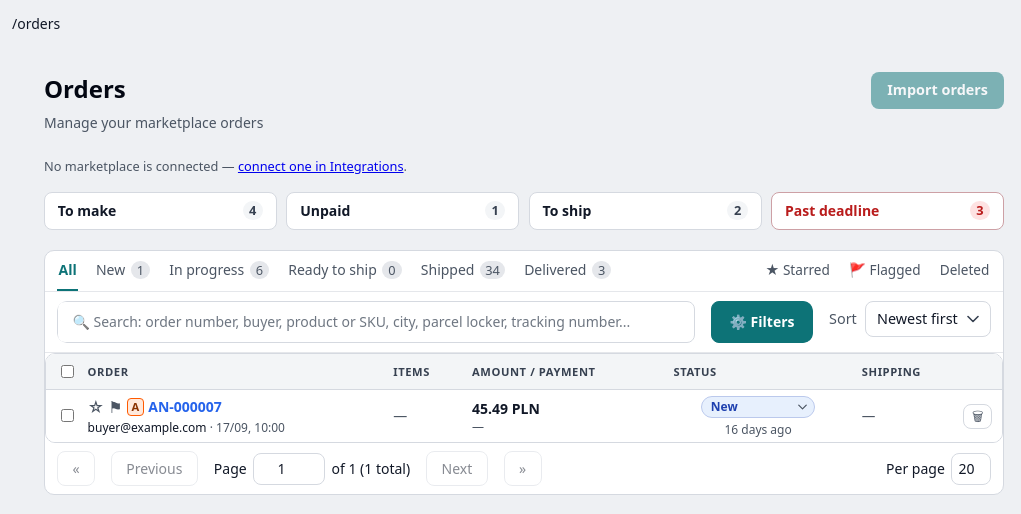
Scenario: the quick button for orders in progress › asks for the orders in that status only, and shows itself pressed
Click the button "In progress 6": (219, 271) [168,251,271,291]
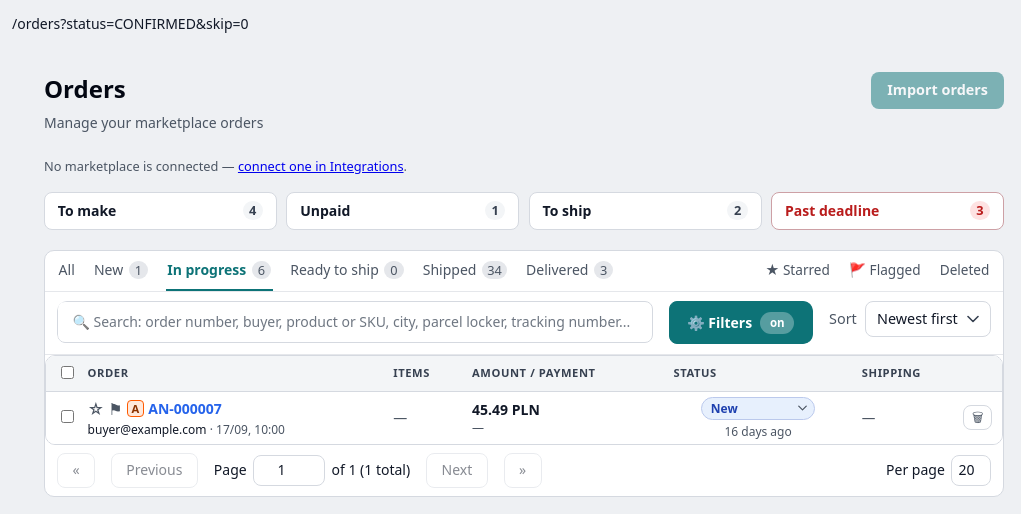
Expected: the text with test id "where" shows "status=CONFIRMED", [12,14,248,33]
